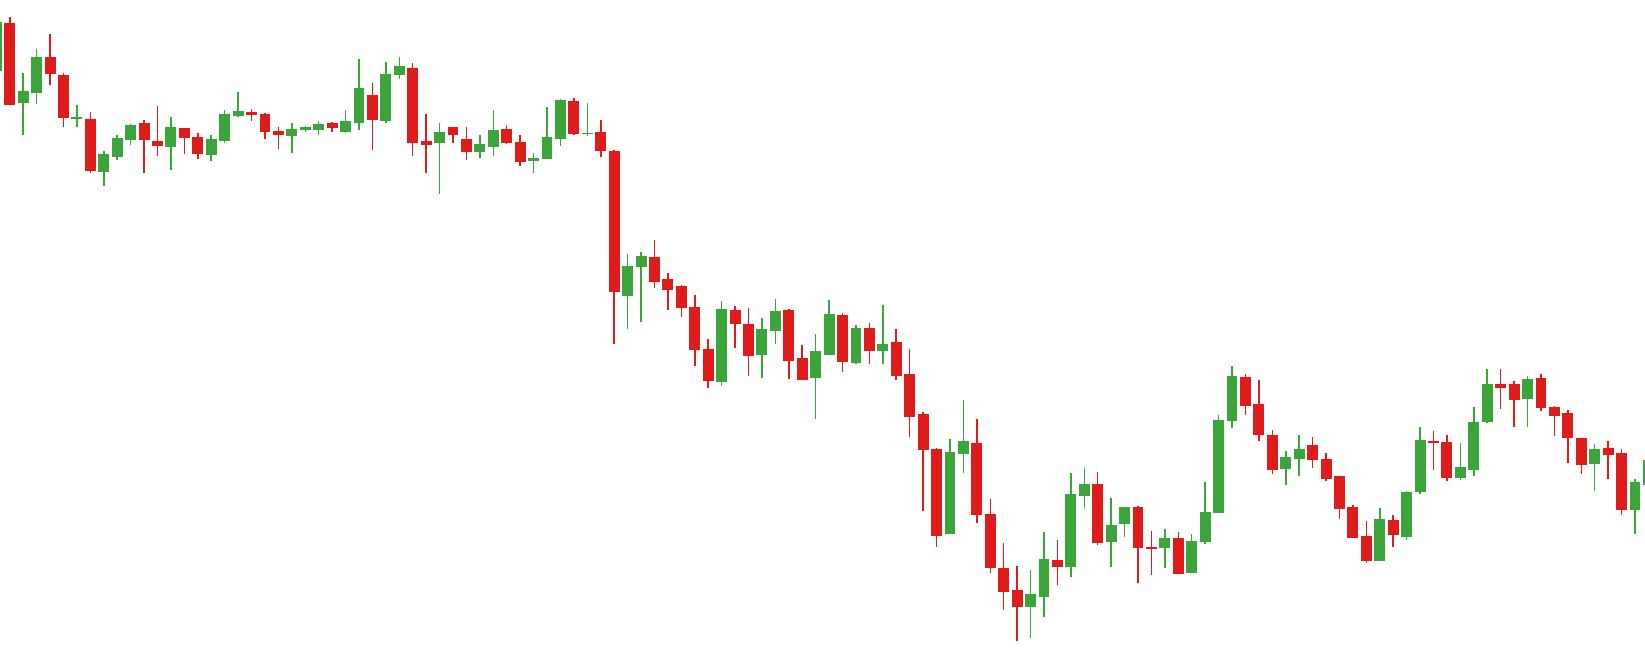sell: (958, 367, 1254, 488), (486, 95, 580, 156)
